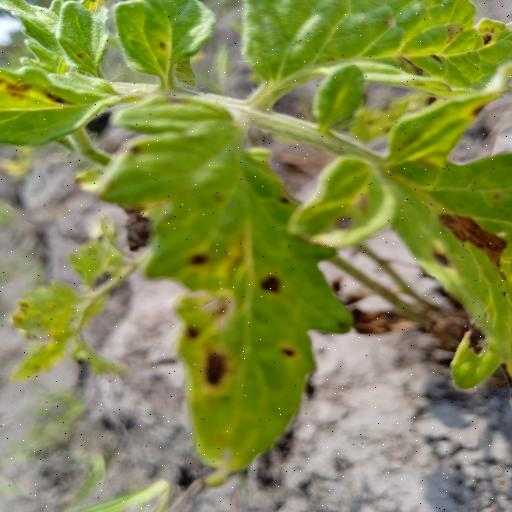Tomato_Brown_Spots: (93, 95, 350, 476)
